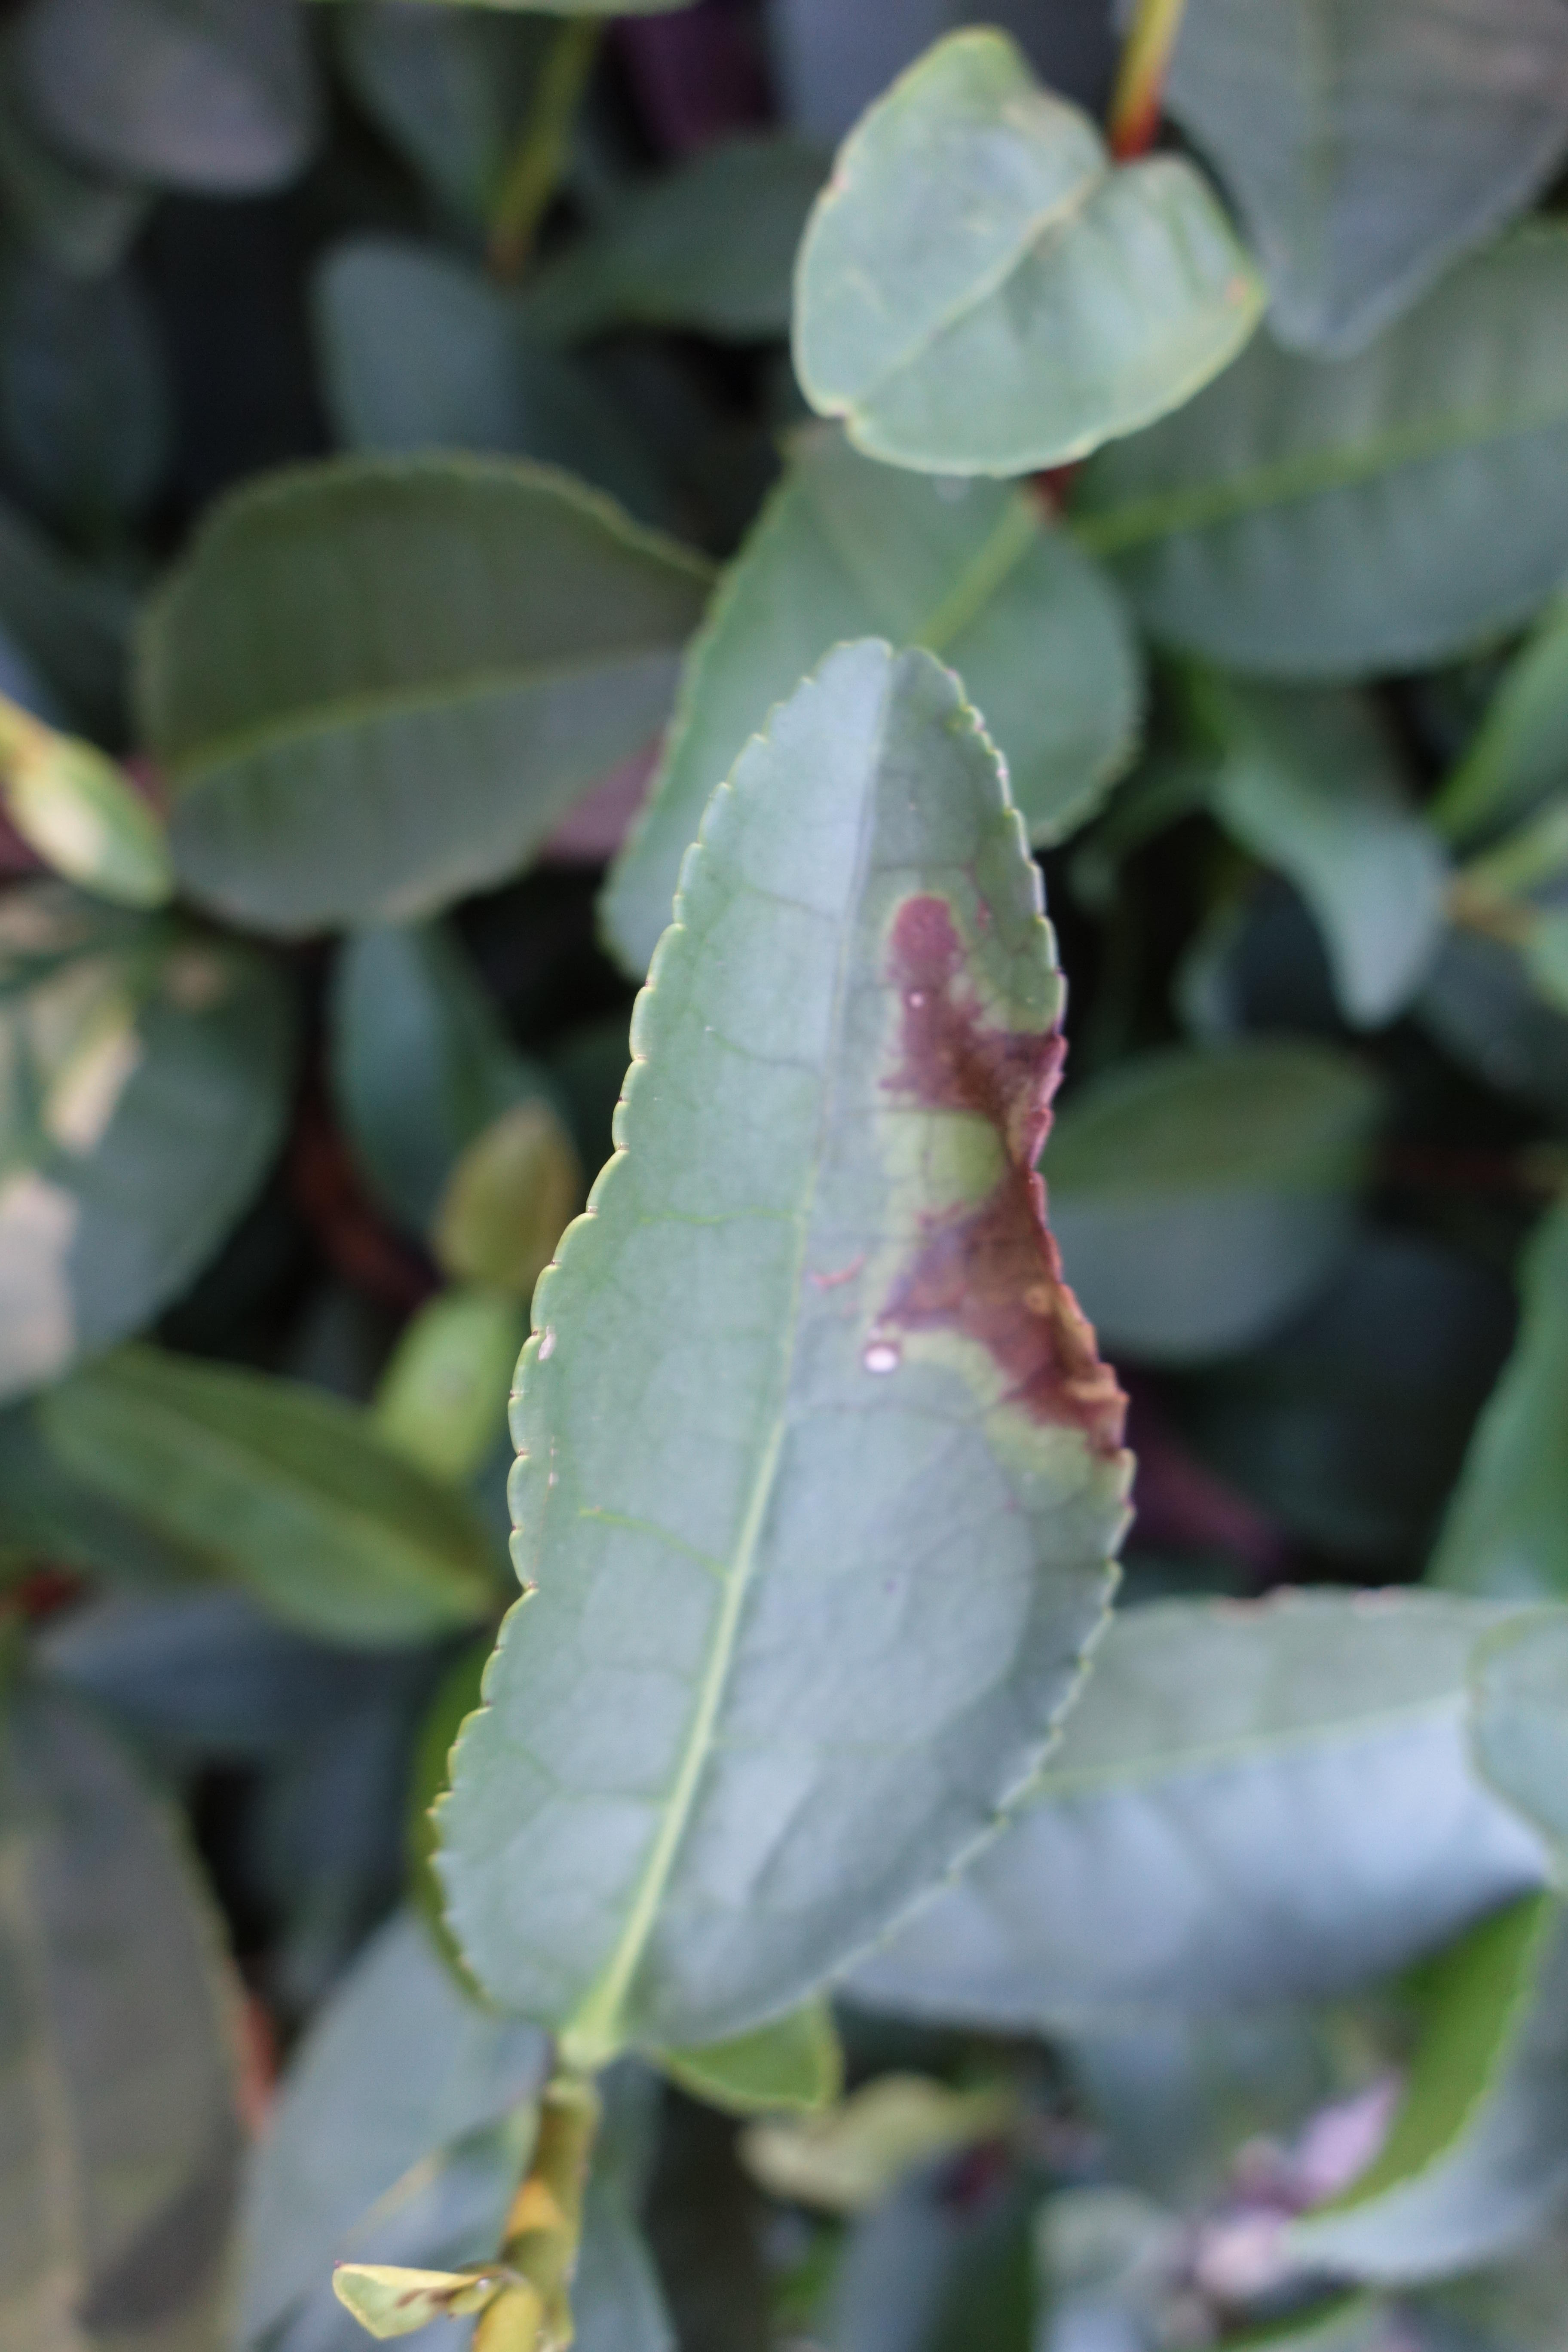tanju_high: (422, 632, 1132, 2074)
